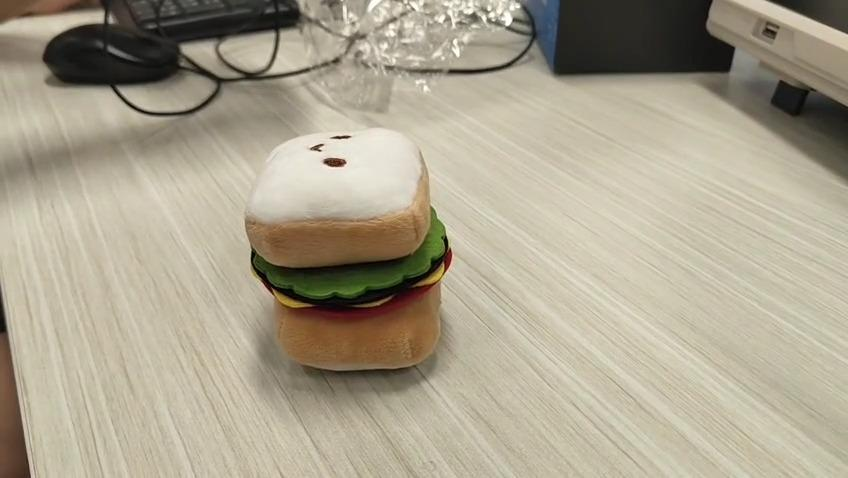objects: (244, 126, 453, 373)
